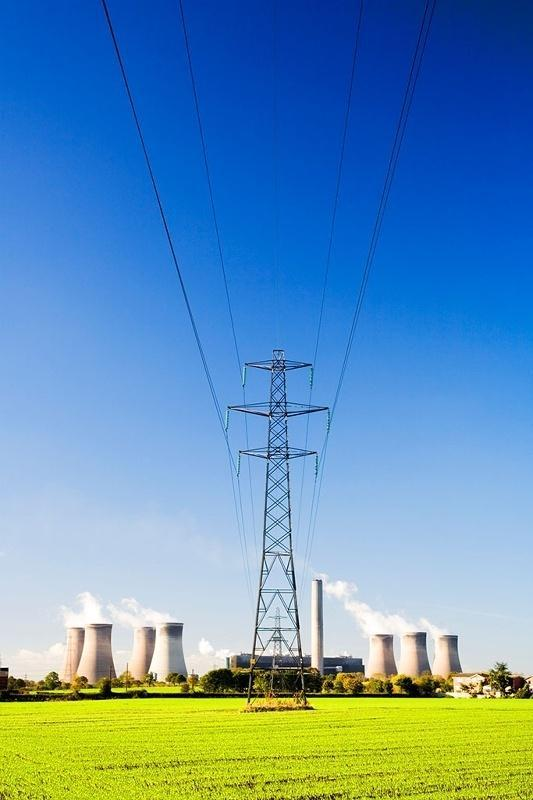power_tower: (222, 348, 332, 712), (261, 604, 294, 664)
